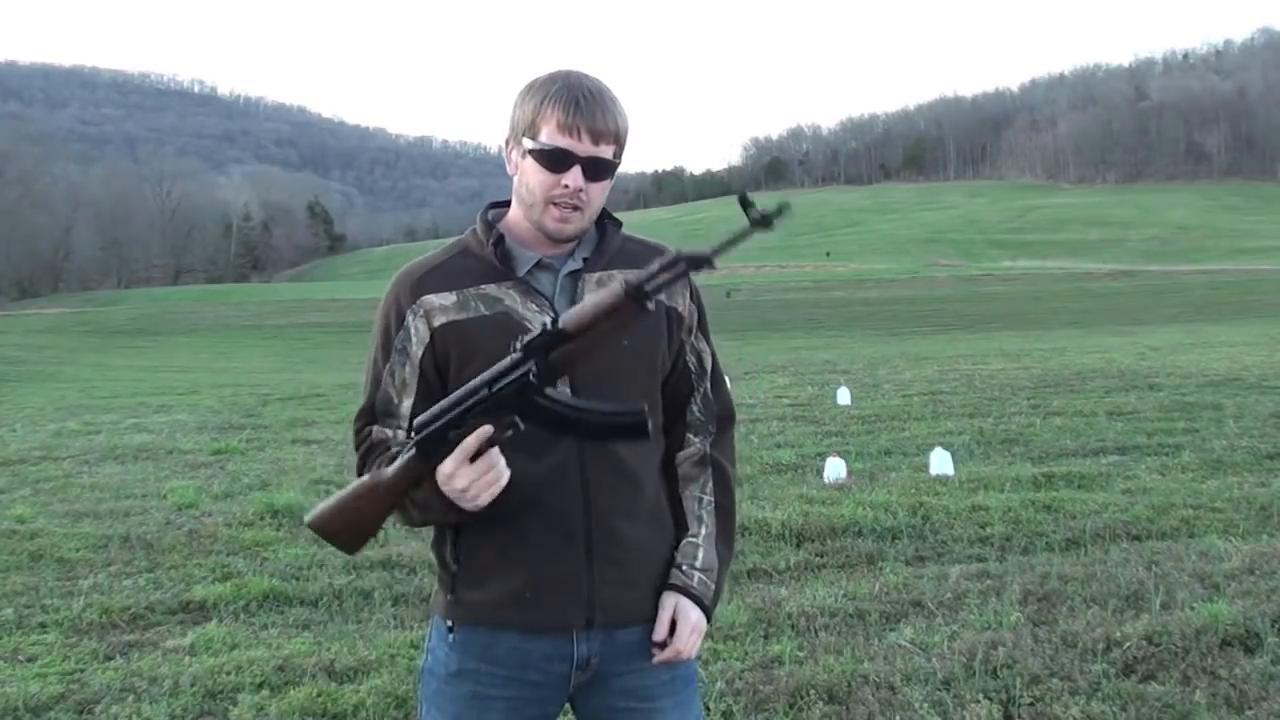AK47 Rifle: (295, 189, 791, 561)
